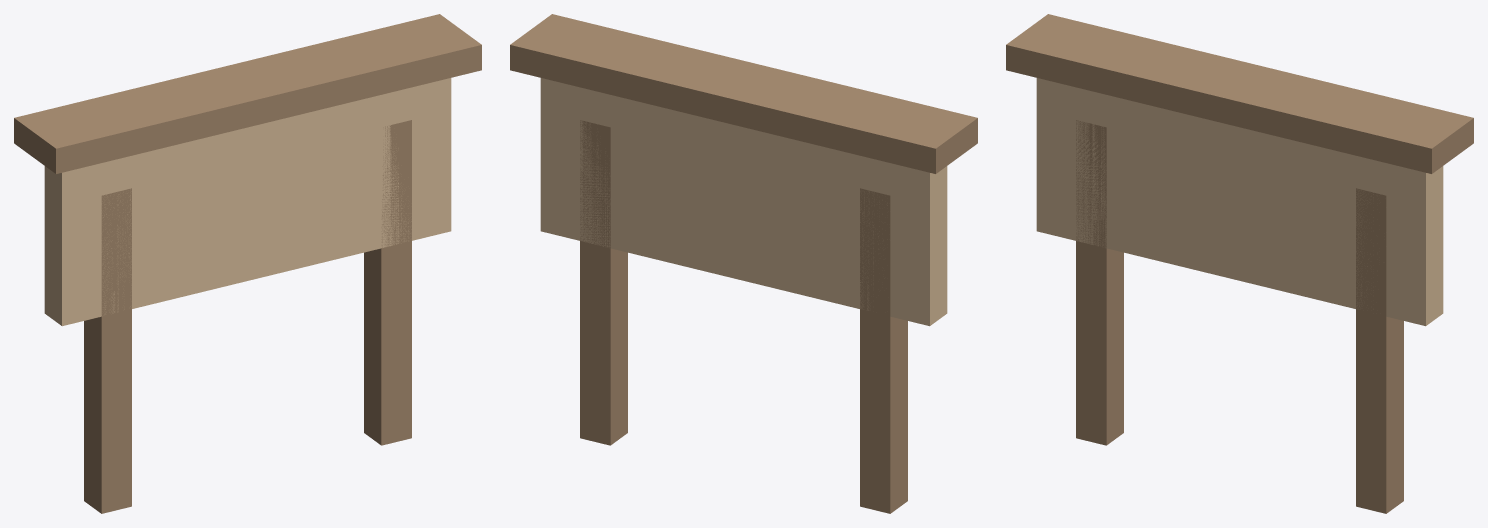
File: Signpost.glb
3 renders of one model, left to right at view 1: azimuth 30°, elevation 25°; view 2: azimuth 150°, elevation 25°; view 3: azimuth 330°, elevation 25°, orthographic.
Visible parts, largest first — view 1: Signpost_1, Signpost_0; view 2: Signpost_1, Signpost_0; view 3: Signpost_1, Signpost_0.
Part boxes in pixels (x1,y1,x2,y2): Signpost_1: (44,78,451,326); Signpost_0: (14,14,481,513); Signpost_1: (540,78,947,326); Signpost_0: (510,14,977,513); Signpost_1: (1036,78,1443,326); Signpost_0: (1006,14,1473,513).
Bounding box in the file's own units: 7 × 6.1 × 1.2.
